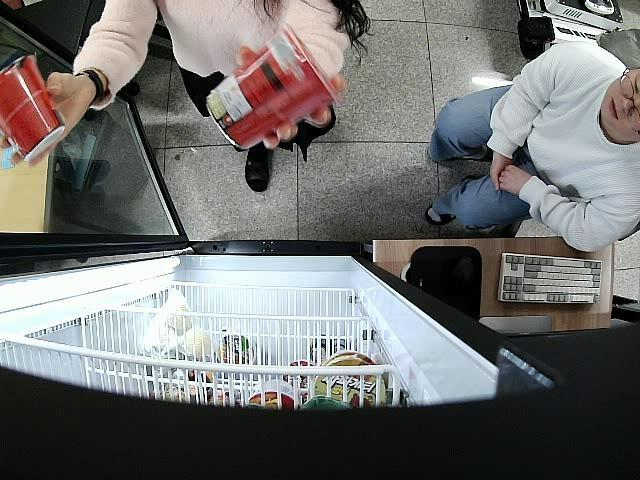02_shinRamen_S: (204, 22, 340, 152), (0, 54, 67, 162)
